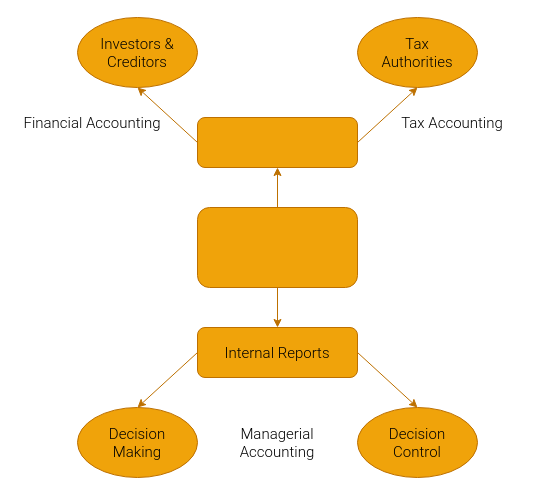
Image size: 544x495. Some labels were removed from this diagram. Each missing label, with the centre of its shape:
"ACCOUNTING SYSTEMS" belongs at (277,247).
"External Reports" belongs at (277,142).
